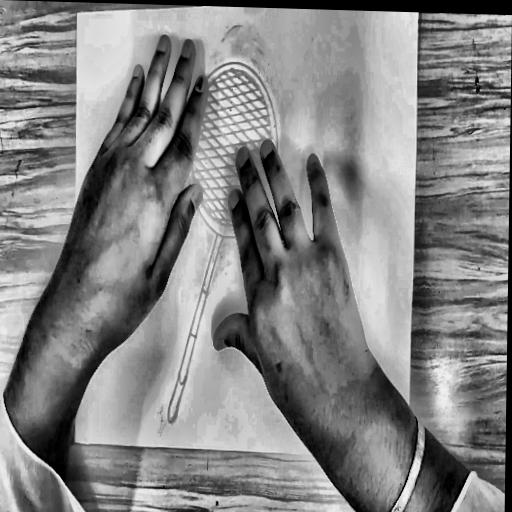badminton: (138, 50, 323, 437)
bottom_left: (72, 436, 79, 446)
bottom_right: (407, 441, 413, 451)
top_left: (74, 9, 80, 18)
